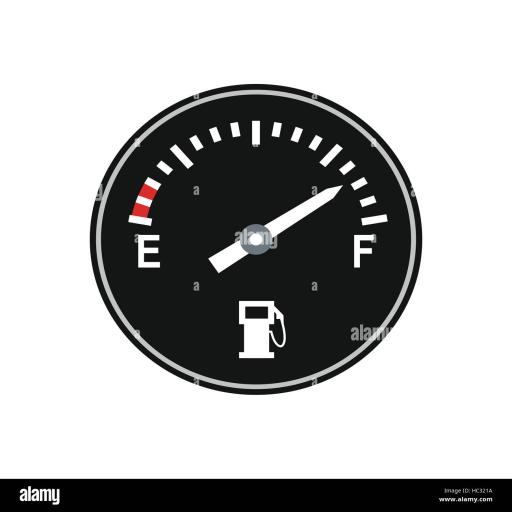empty: (134, 232, 162, 270)
fuel_icon: (234, 298, 288, 362)
full: (349, 231, 379, 272)
guage_area: (80, 69, 426, 401)
needle_center: (236, 218, 274, 260)
needle_tip: (315, 180, 344, 208)
